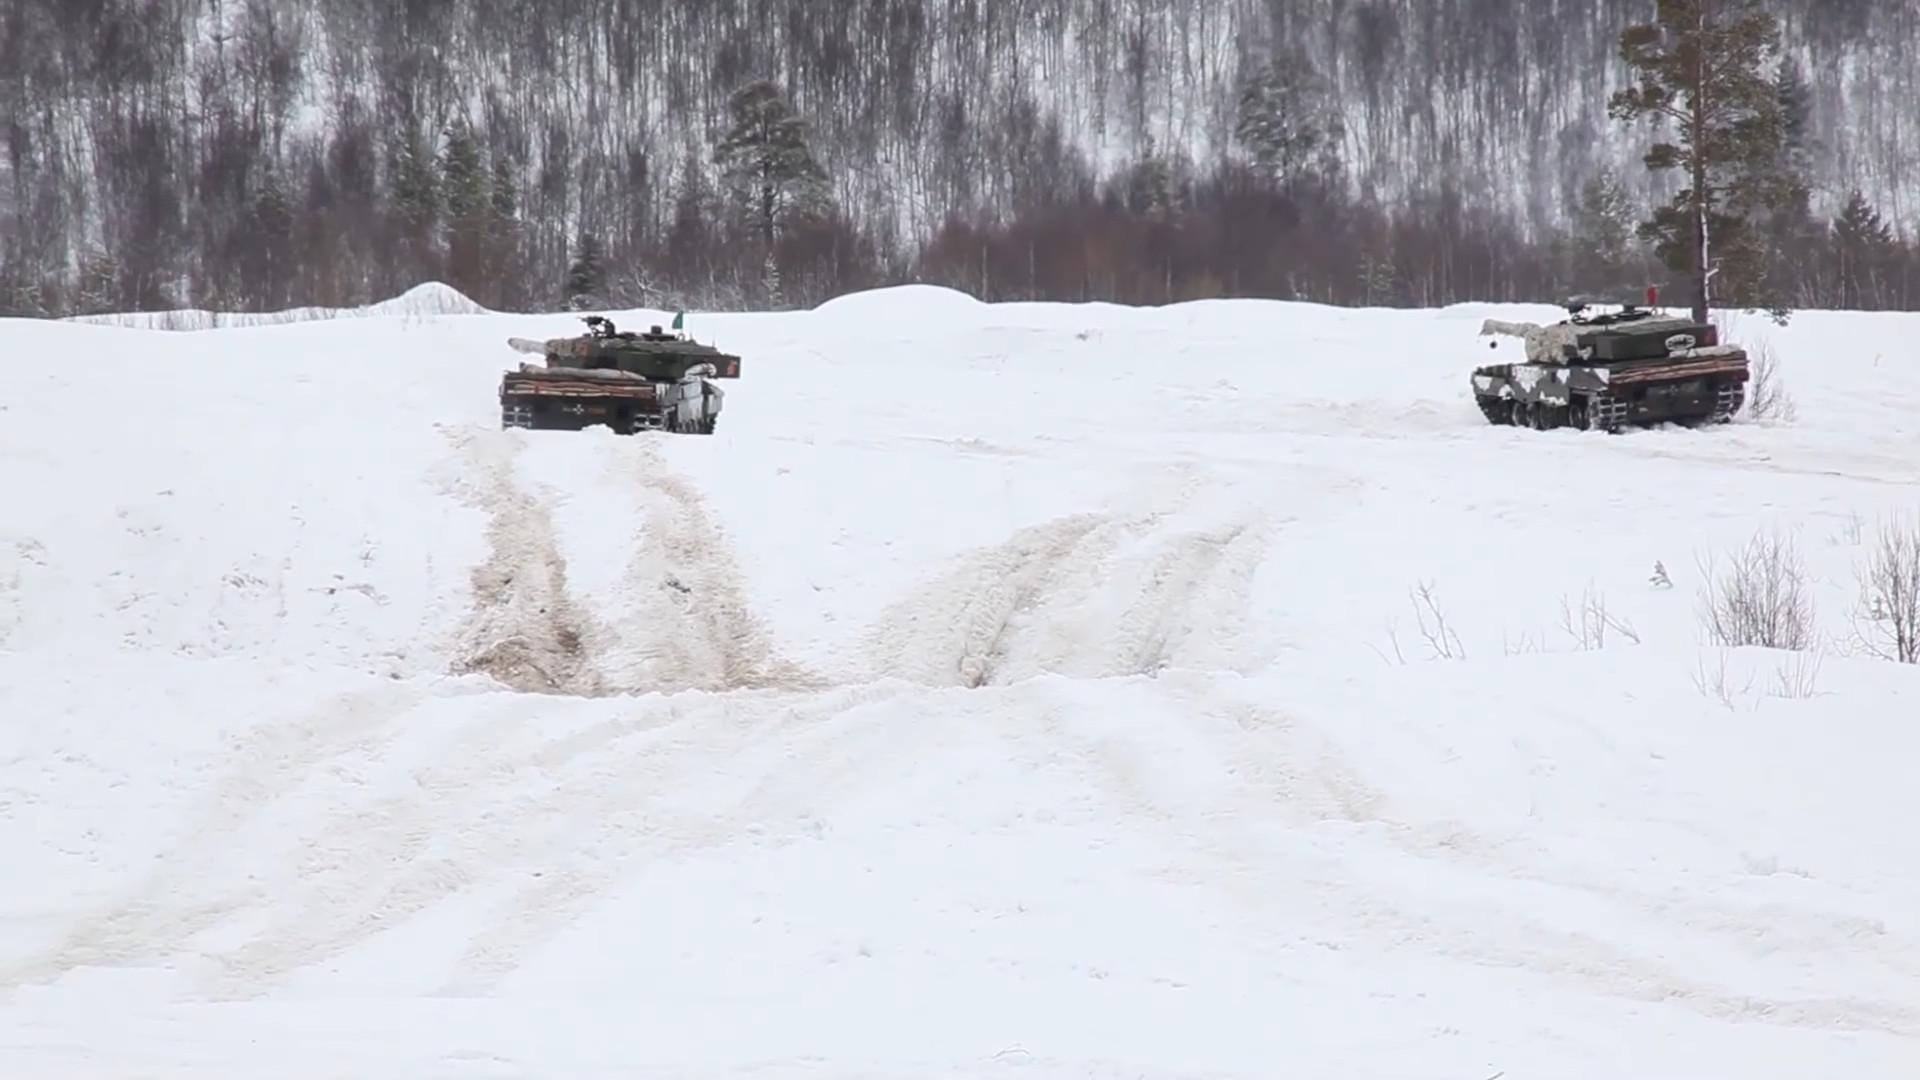tank: (1470, 302, 1749, 429), (498, 334, 740, 435)
